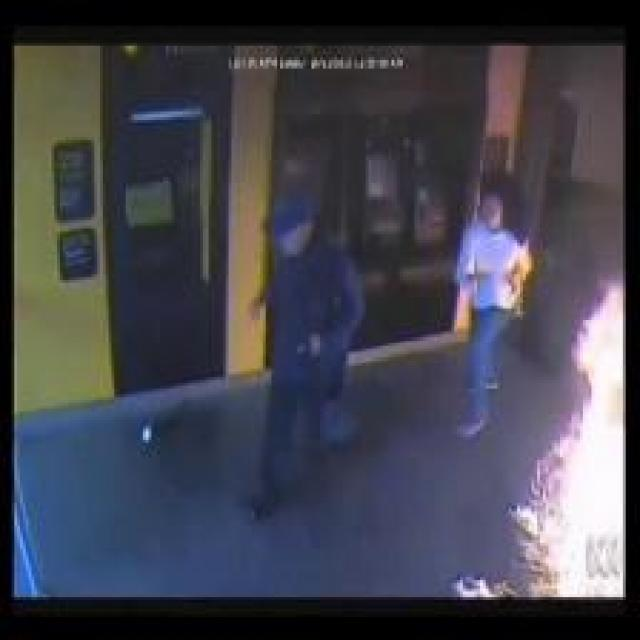Fire: (508, 284, 623, 596)
